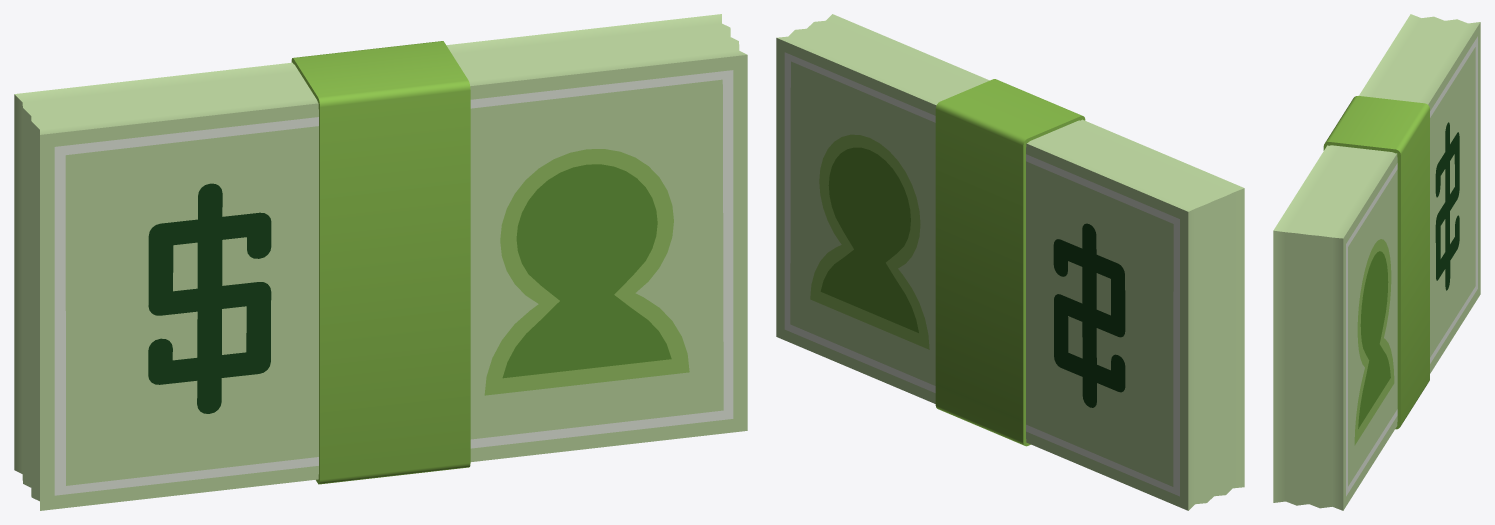
The model's file is dollar_banknote.gltf.
3 views of the same model, side by side, from view 1: azimuth 30°, elevation 25°; view 2: azimuth 150°, elevation 25°; view 3: azimuth 270°, elevation 25° (orthographic). The views are drawn at different scales.
Parts seen in each view (by area): view 1: Cube.954; view 2: Cube.954; view 3: Cube.954.
Part boxes in pixels (x1,y1,x2,y2): Cube.954: (14, 14, 747, 510); Cube.954: (776, 14, 1244, 510); Cube.954: (1273, 14, 1480, 510).
Bounding box in the file's own units: 2.2 × 1.28 × 0.8586.
1 material, 1 textured.
